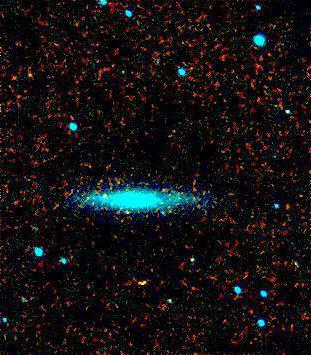star: (113, 197, 143, 227)
